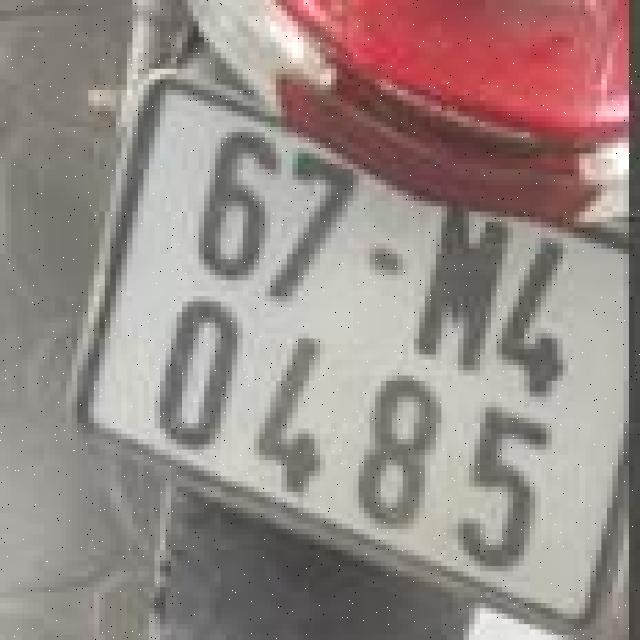0: (141, 286, 258, 466)
4: (234, 311, 362, 512), (486, 216, 606, 412)
5: (432, 388, 570, 591)
6: (178, 119, 296, 298)
7: (253, 136, 373, 320)
8: (339, 354, 468, 547)
M: (404, 185, 523, 388)
